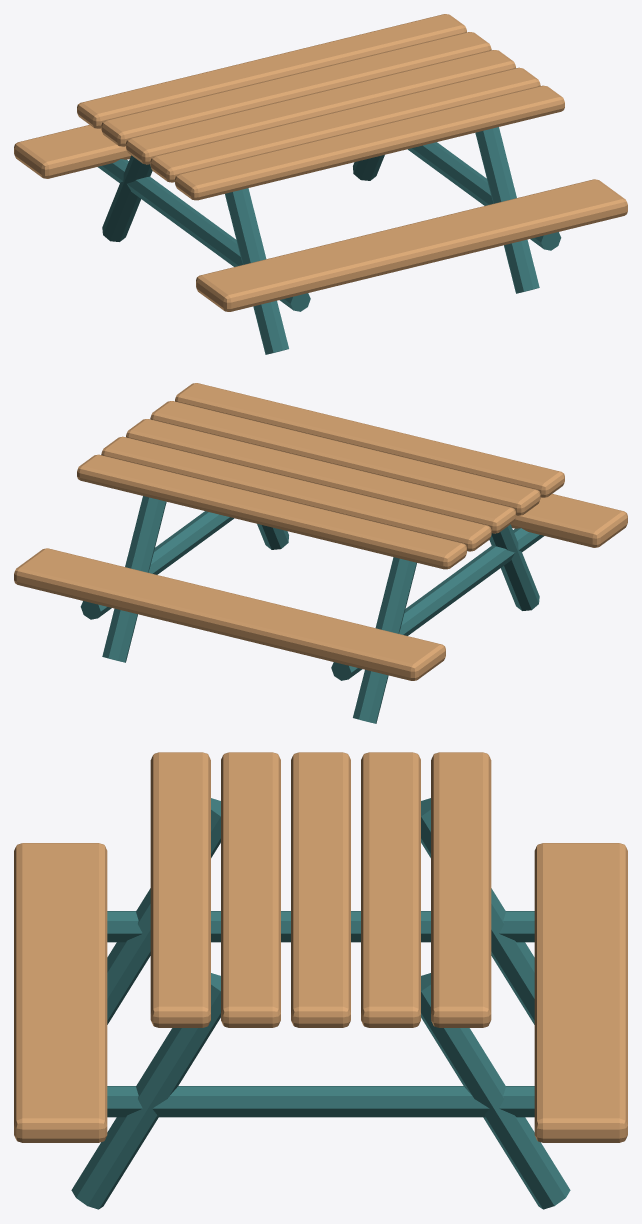
The model's file is picnic_table.glb.
The picture shows the model from 3 angles, top to bottom: view 1: azimuth 30°, elevation 25°; view 2: azimuth 150°, elevation 25°; view 3: azimuth 270°, elevation 25°; orthographic projection. The views are drawn at different scales.
Visible parts, largest first — view 1: picnic_table_Mesh; view 2: picnic_table_Mesh; view 3: picnic_table_Mesh.
Boxes of the visible parts, x1,y1,x2,y2 form: picnic_table_Mesh: [14, 14, 627, 354]; picnic_table_Mesh: [14, 383, 627, 723]; picnic_table_Mesh: [14, 752, 627, 1209].
Size of the model in its own units: 2 by 0.792 by 1.84.
